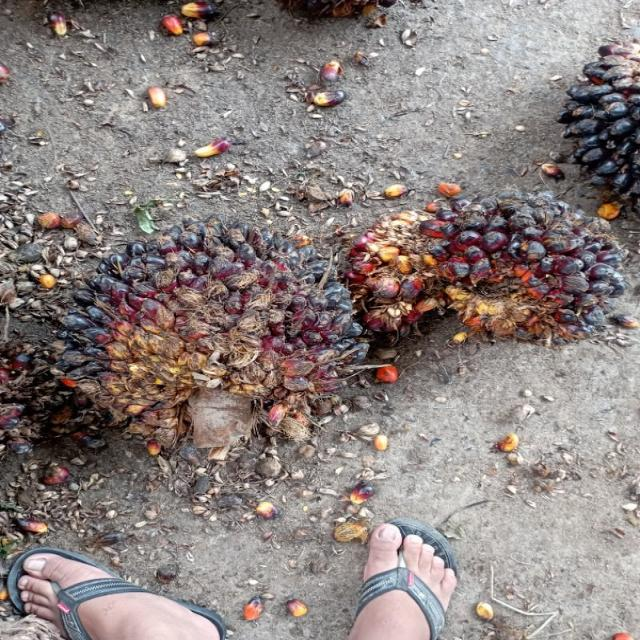fraksi 00: (31, 208, 370, 462)
fraksi 1: (326, 180, 636, 371)
